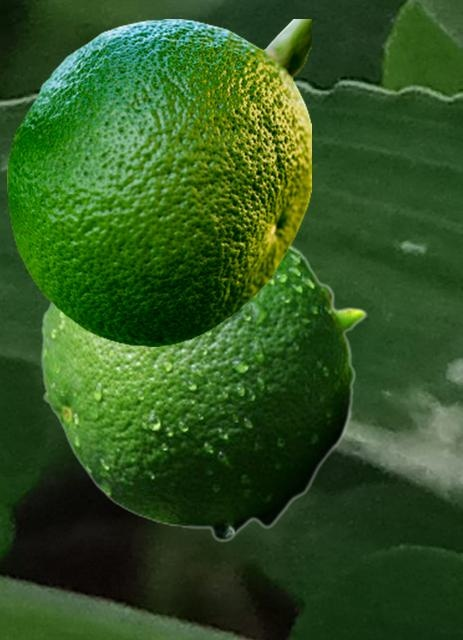dalandan: (7, 19, 310, 345), (40, 244, 366, 542)
